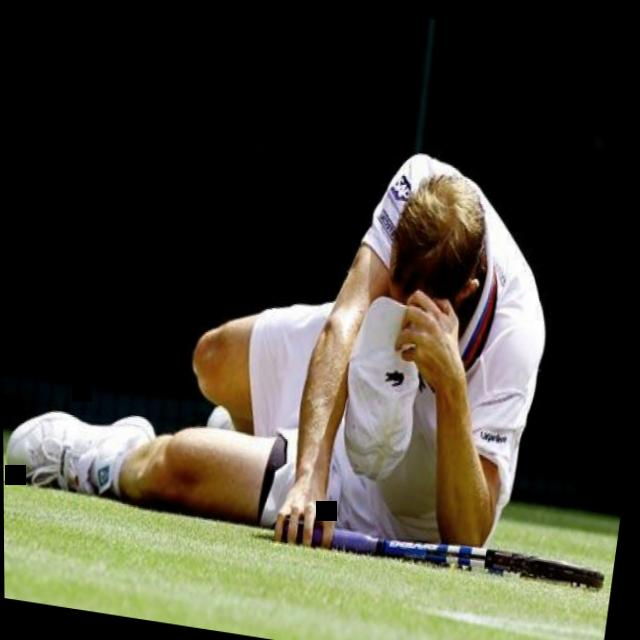Fall-Detected: (0, 58, 585, 586)
